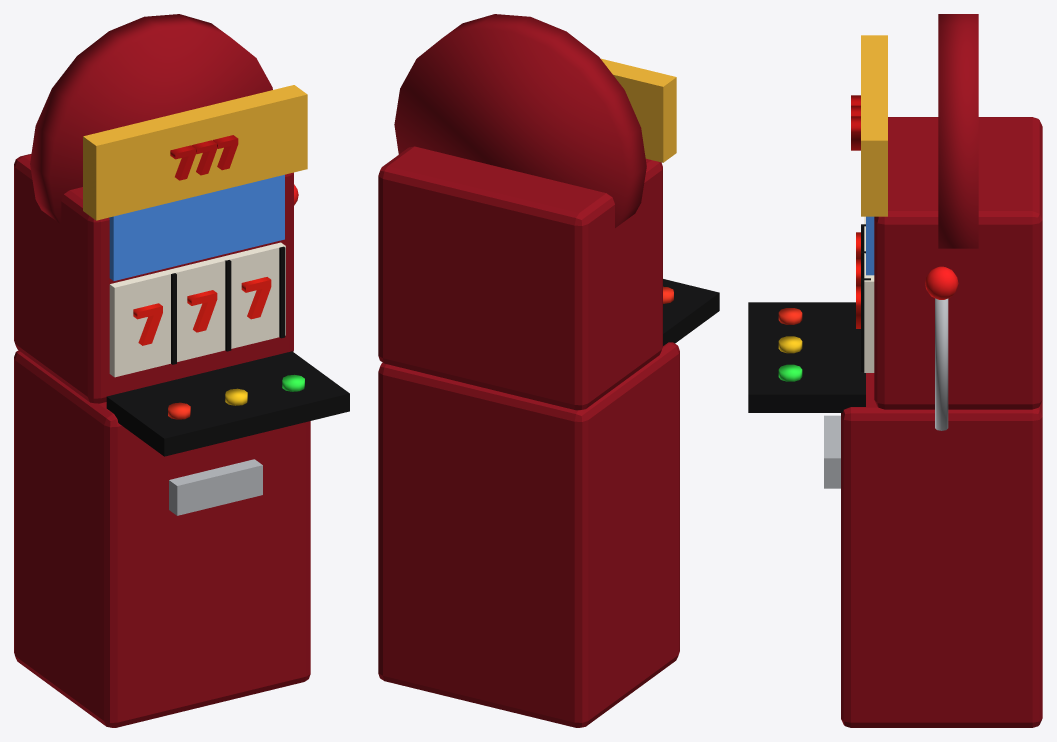
Rendered from slot_machine.glb.
3 renders of one model, left to right at view 1: azimuth 30°, elevation 25°; view 2: azimuth 150°, elevation 25°; view 3: azimuth 270°, elevation 25°, orthographic.
Visible parts, largest first — view 1: slot_machine; view 2: slot_machine; view 3: slot_machine.
Part boxes in pixels (x1,y1,x2,y2): slot_machine: (14, 14, 349, 727); slot_machine: (378, 14, 719, 727); slot_machine: (748, 14, 1042, 727).
Size of the model in its own units: 0.87 by 2.15 by 0.875.
1 material, 1 textured.
